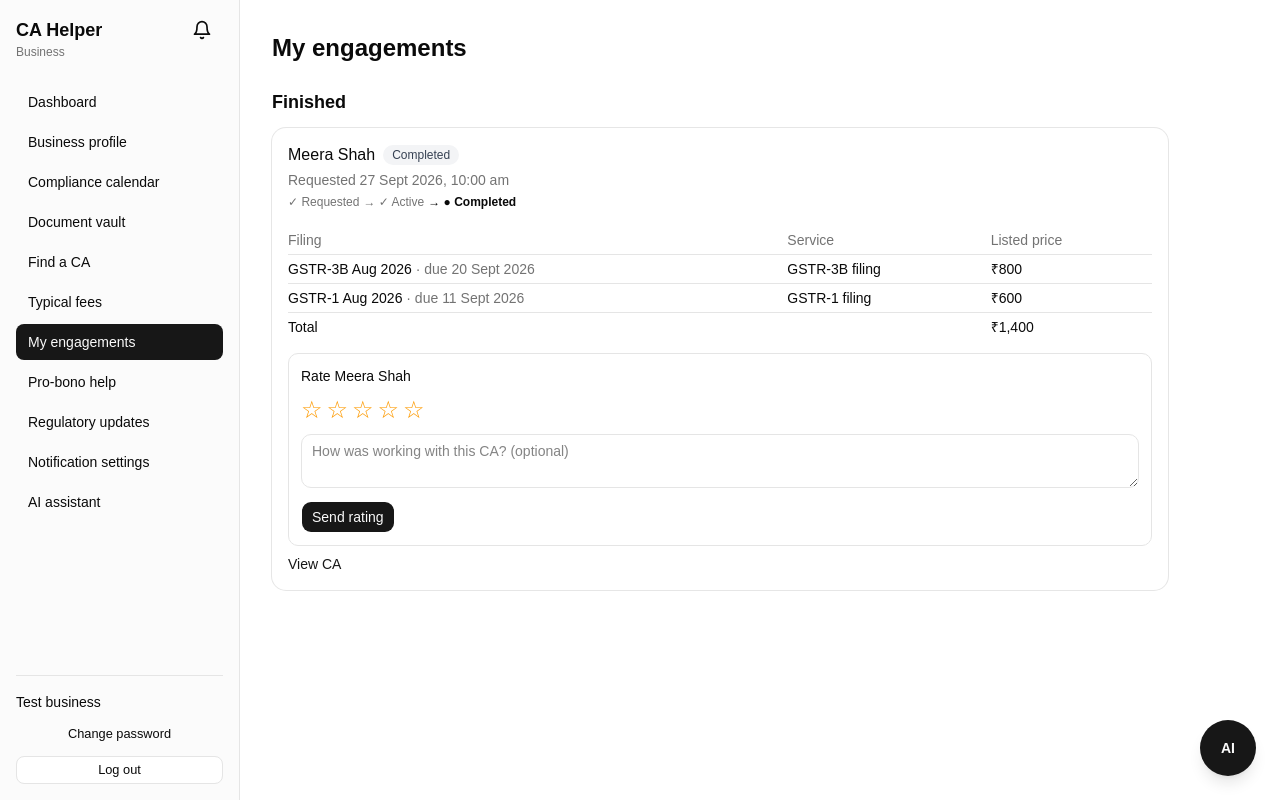
engagement card timeline › asks for stars before sending a rating
Click the button "Send rating".
click(348, 517)  # box [301,501,395,533]
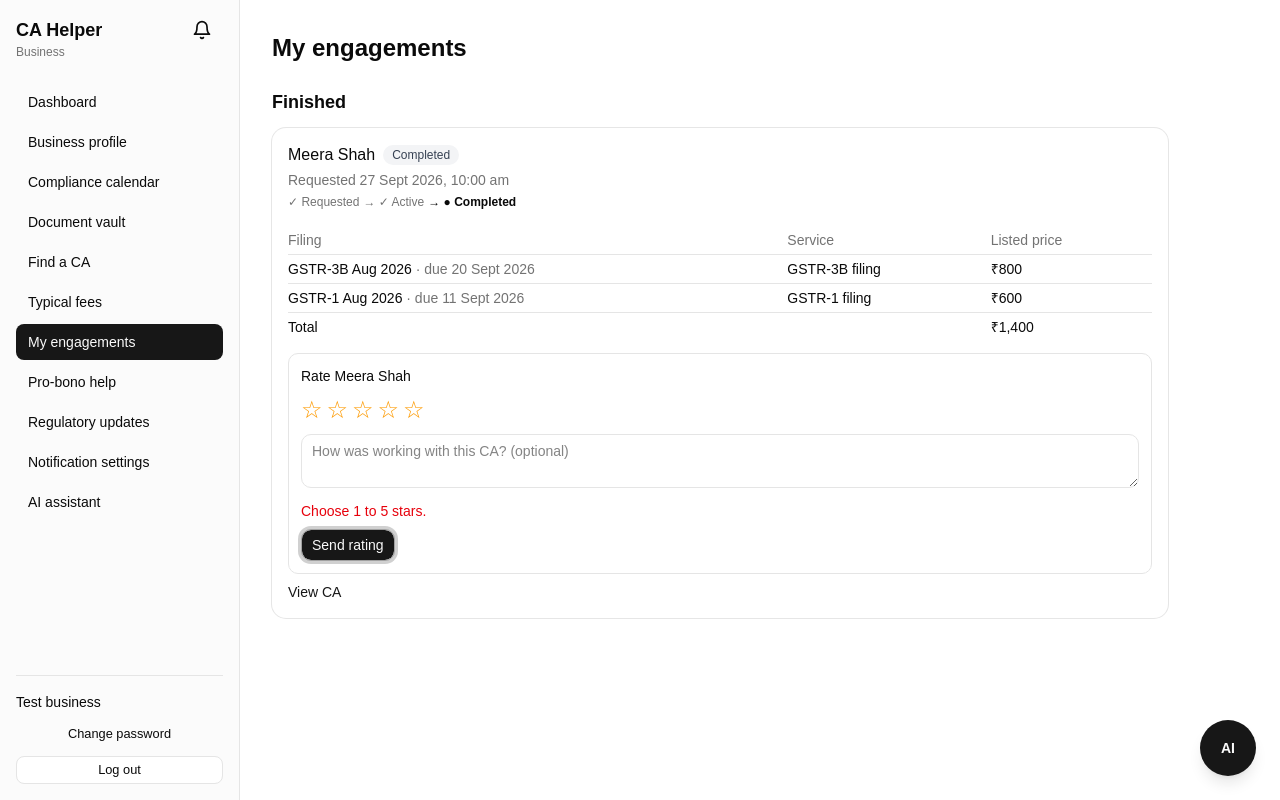
Check: the message reads "Choose 1 to 5 stars.", box [301,503,426,519]
